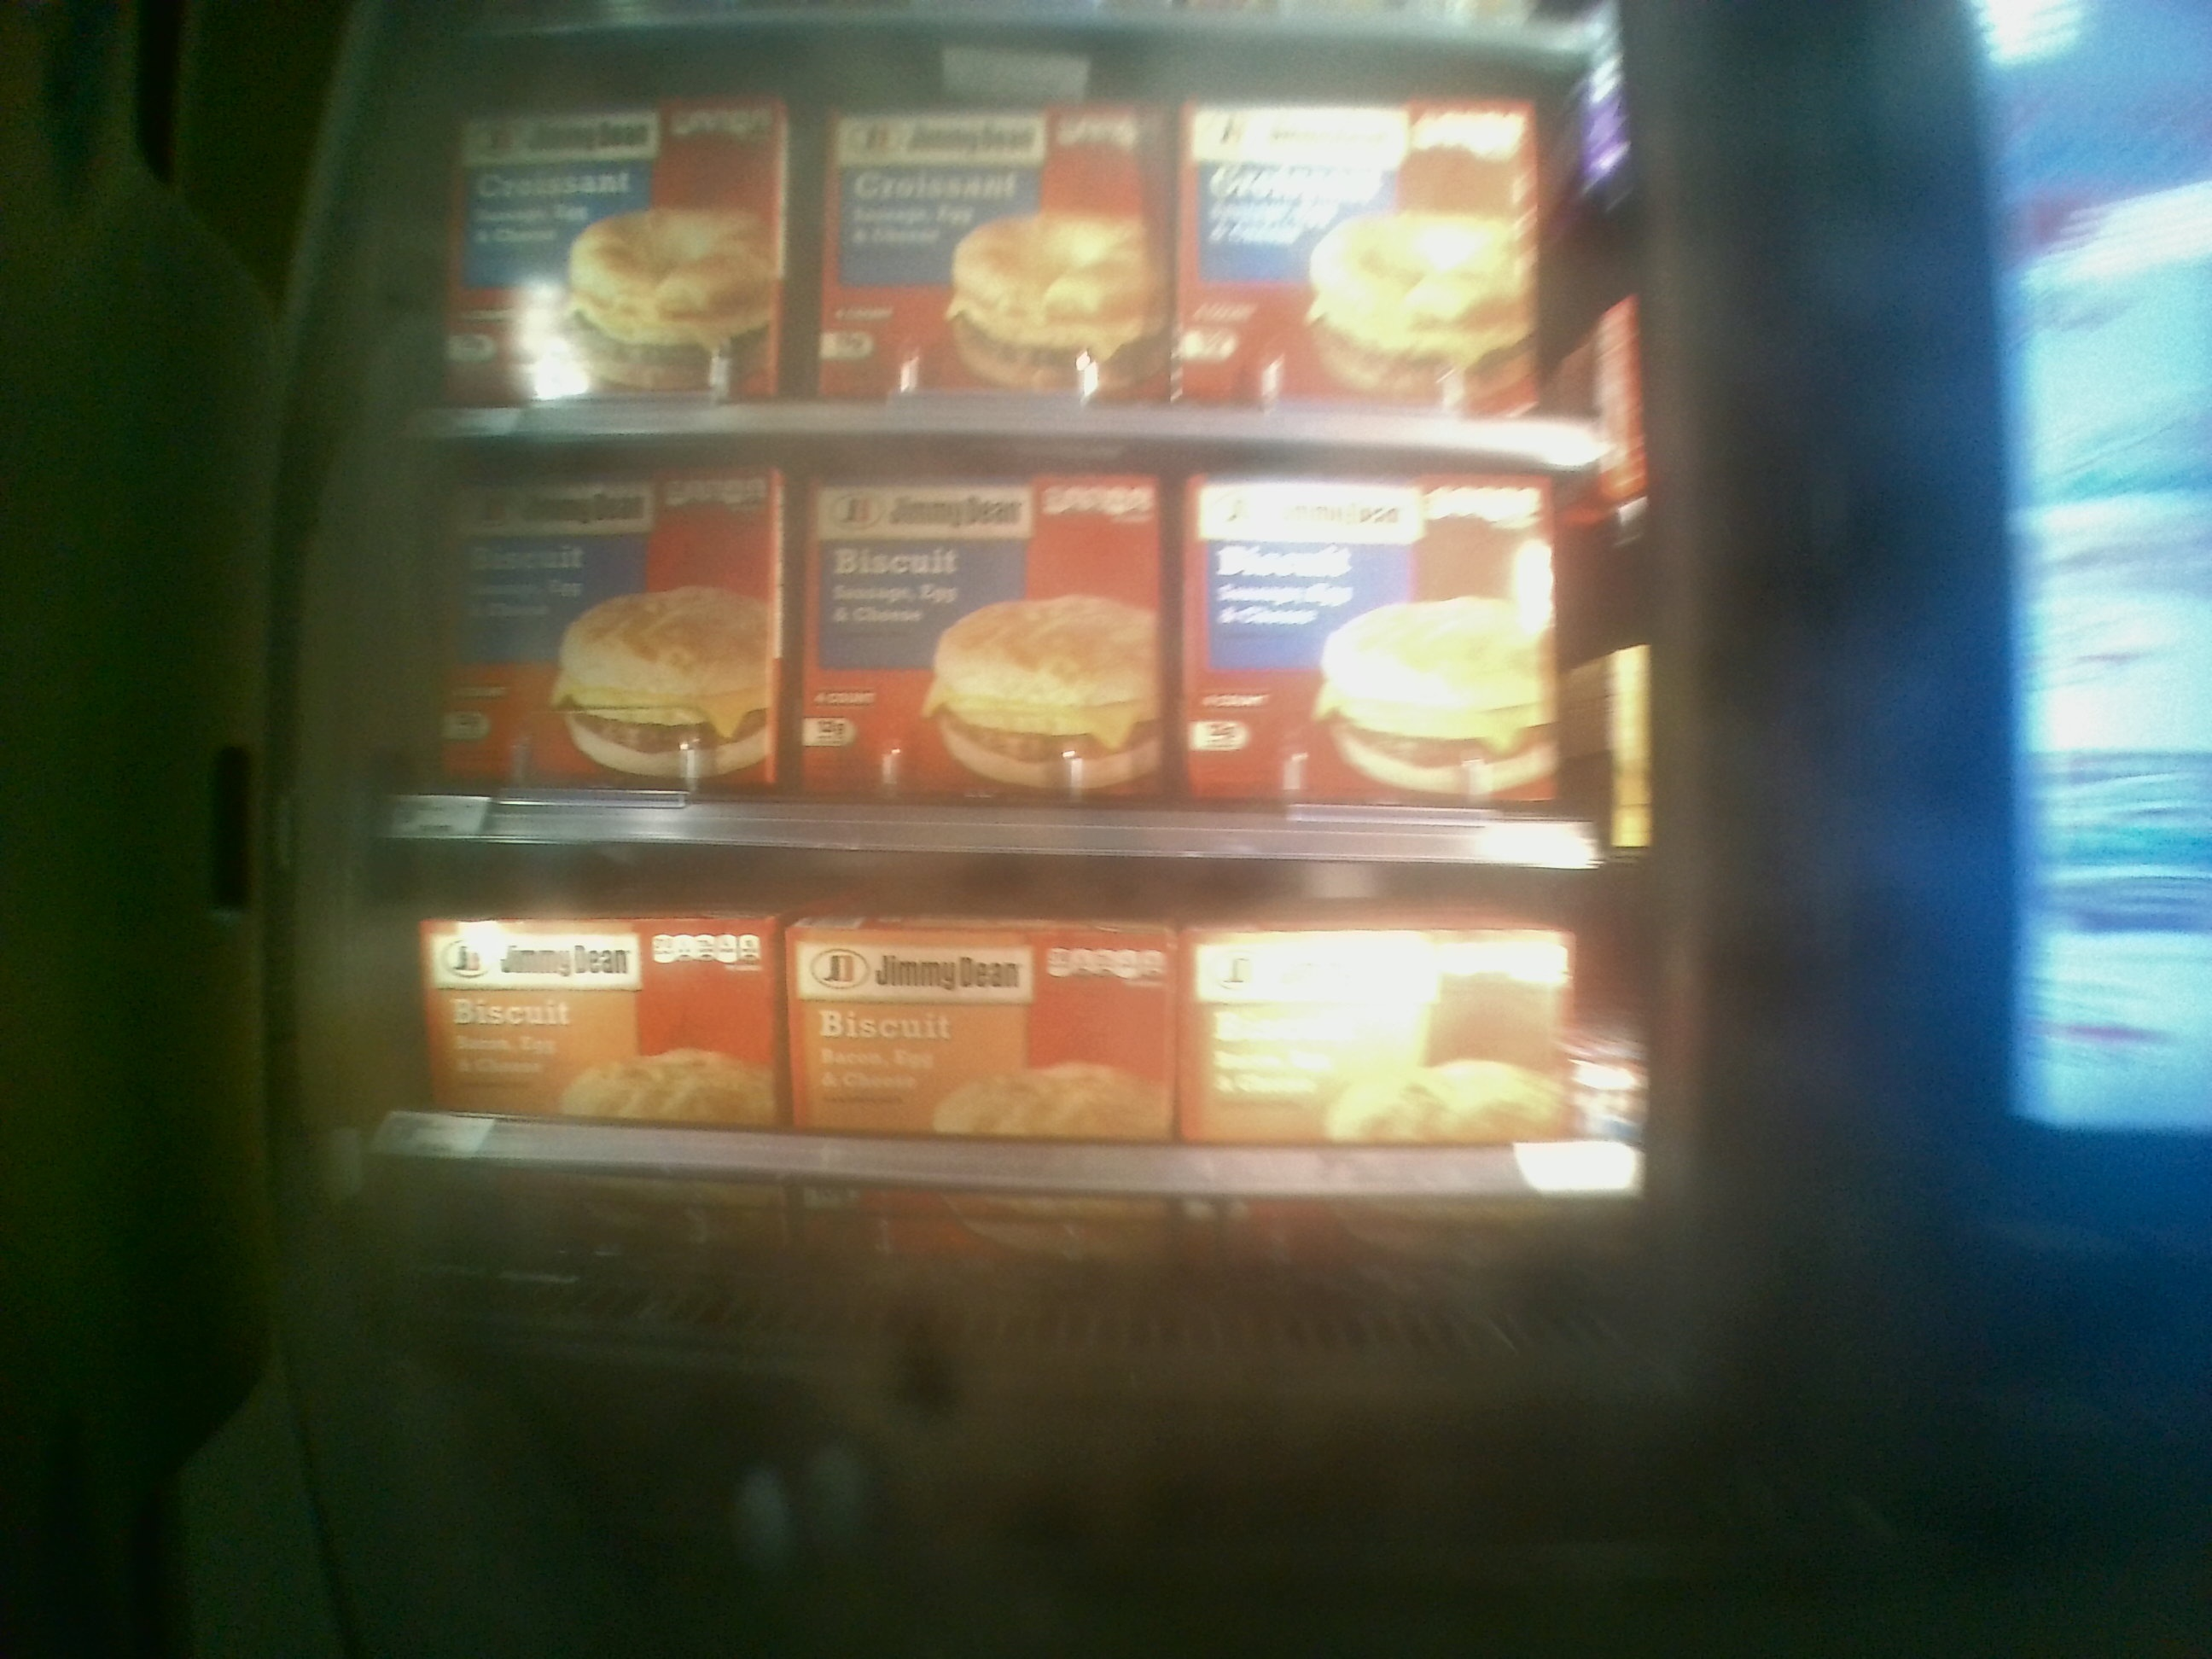shelf: (395, 852, 1641, 1314), (387, 422, 1629, 868)
